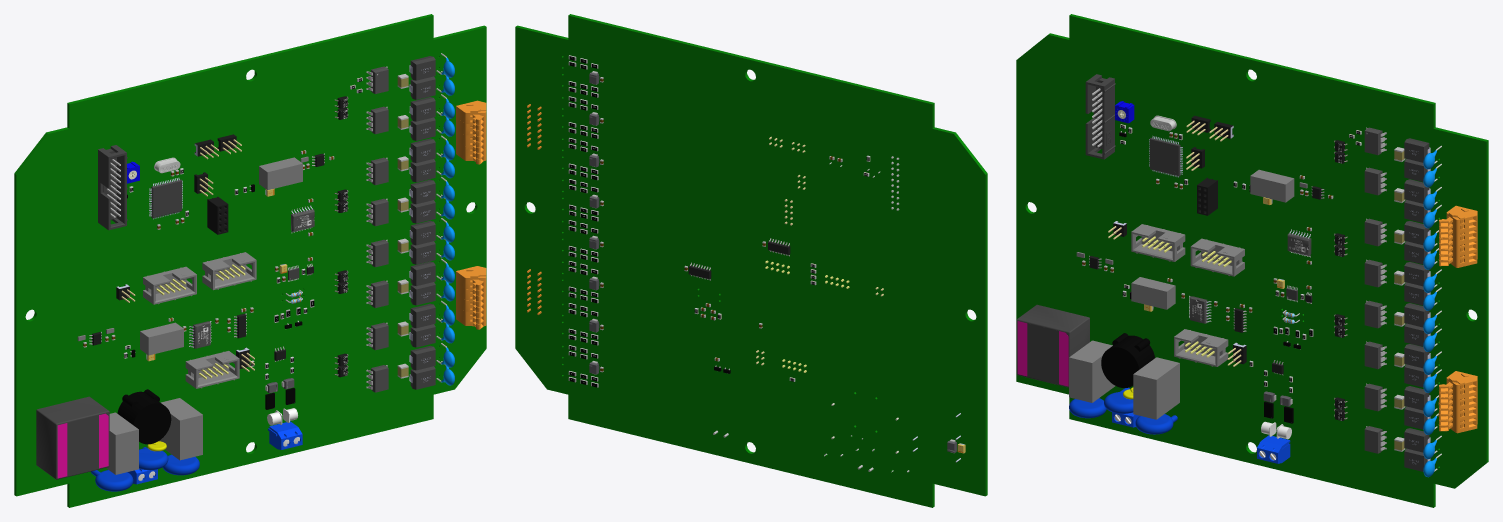
Rendered from pcb.glb.
3 views of the same model, side by side, from view 1: azimuth 30°, elevation 25°; view 2: azimuth 150°, elevation 25°; view 3: azimuth 330°, elevation 25° (orthographic).
Bounding box in the file's own units: 222 × 182 × 24.08.
Materials: 1 (1 with a texture image).
